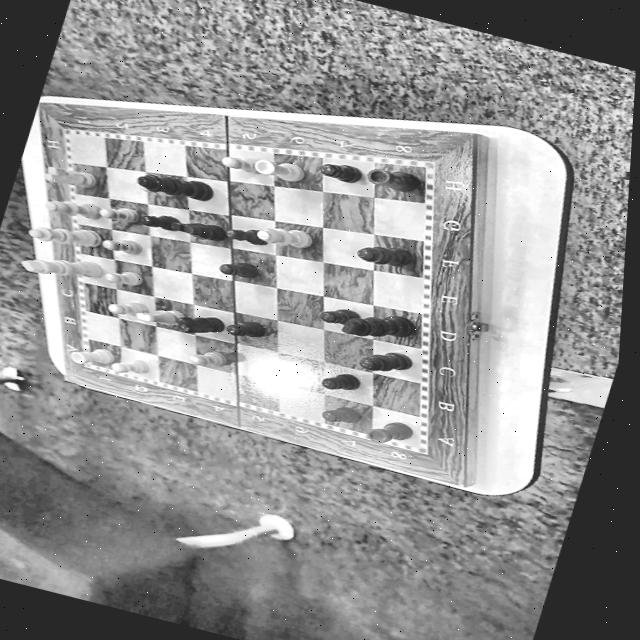chessboard: (69, 132, 422, 447)
